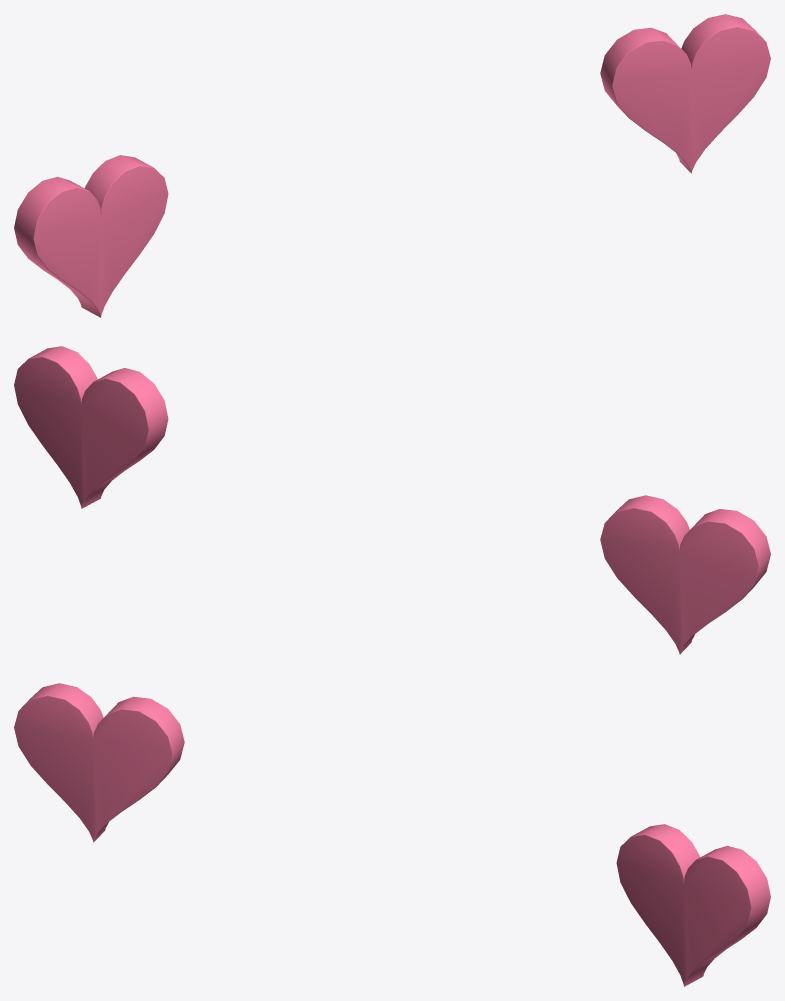
The model's file is heart_cheeks.glb.
3 views of the same model, one above another, from view 1: azimuth 30°, elevation 25°; view 2: azimuth 150°, elevation 25°; view 3: azimuth 330°, elevation 25° (orthographic).
Visible parts, largest first — view 1: heart, heart.001; view 2: heart.001, heart; view 3: heart.001, heart.
Boxes of the visible parts, left/top/right/bottom form: heart: left=600, top=14, right=770, bottom=173; heart.001: left=14, top=155, right=168, bottom=317; heart.001: left=600, top=495, right=770, bottom=654; heart: left=14, top=346, right=168, bottom=508; heart.001: left=14, top=683, right=184, bottom=842; heart: left=616, top=824, right=770, bottom=986.
Size of the model in its own units: 0.8025 by 0.1437 by 0.0518.
